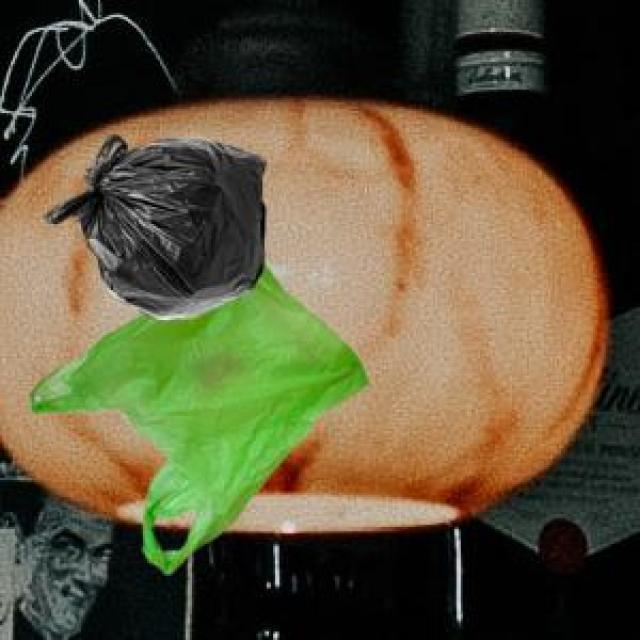miscellaneous trash: (41, 130, 260, 316)
